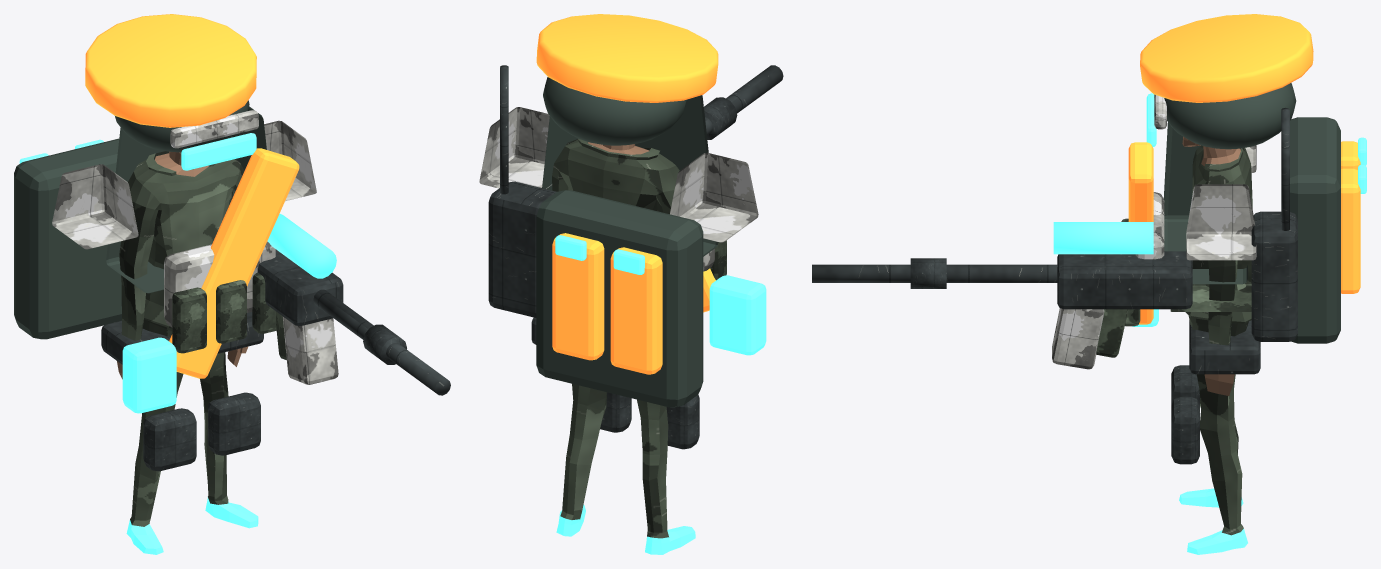
The model's file is commando.glb.
The picture shows the model from 3 angles, left to right: view 1: azimuth 30°, elevation 25°; view 2: azimuth 150°, elevation 25°; view 3: azimuth 270°, elevation 25°; orthographic projection. The views are drawn at different scales.
Parts seen in each view (by area): view 1: commando_warning_emissive, commando_commando_armor, BaseHuman_baked, commando_armor_dark, commando_glass_emissive, commando_team_primary, commando_team_accent, commando_fabric_dark; view 2: commando_commando_armor, commando_warning_emissive, BaseHuman_baked, commando_armor_dark, commando_team_primary, commando_glass_emissive, commando_fabric_dark; view 3: commando_armor_dark, commando_commando_armor, commando_warning_emissive, BaseHuman_baked, commando_team_primary, commando_glass_emissive, commando_team_accent, commando_fabric_dark.
Part boxes in pixels (bbox=[...]): commando_warning_emissive: bbox=[85, 14, 299, 378]; commando_commando_armor: bbox=[14, 100, 266, 339]; BaseHuman_baked: bbox=[117, 151, 258, 554]; commando_armor_dark: bbox=[101, 249, 450, 471]; commando_glass_emissive: bbox=[19, 133, 336, 413]; commando_team_primary: bbox=[52, 120, 316, 249]; commando_team_accent: bbox=[164, 110, 338, 384]; commando_fabric_dark: bbox=[172, 272, 286, 360]; commando_commando_armor: bbox=[536, 77, 718, 407]; commando_warning_emissive: bbox=[536, 14, 718, 374]; BaseHuman_baked: bbox=[552, 138, 695, 554]; commando_armor_dark: bbox=[488, 65, 783, 449]; commando_team_primary: bbox=[479, 107, 758, 242]; commando_glass_emissive: bbox=[555, 235, 766, 355]; commando_fabric_dark: bbox=[710, 240, 726, 280]; commando_armor_dark: bbox=[812, 108, 1297, 464]; commando_commando_armor: bbox=[1163, 83, 1340, 343]; commando_warning_emissive: bbox=[1128, 14, 1360, 324]; BaseHuman_baked: bbox=[1179, 136, 1252, 554]; commando_team_primary: bbox=[1186, 145, 1256, 260]; commando_glass_emissive: bbox=[1053, 93, 1366, 326]; commando_team_accent: bbox=[1052, 94, 1166, 369]; commando_fabric_dark: bbox=[1096, 218, 1251, 357].
Size of the model in its own units: 0.7587 by 1.5 by 1.55.
8 materials, 4 textured.
